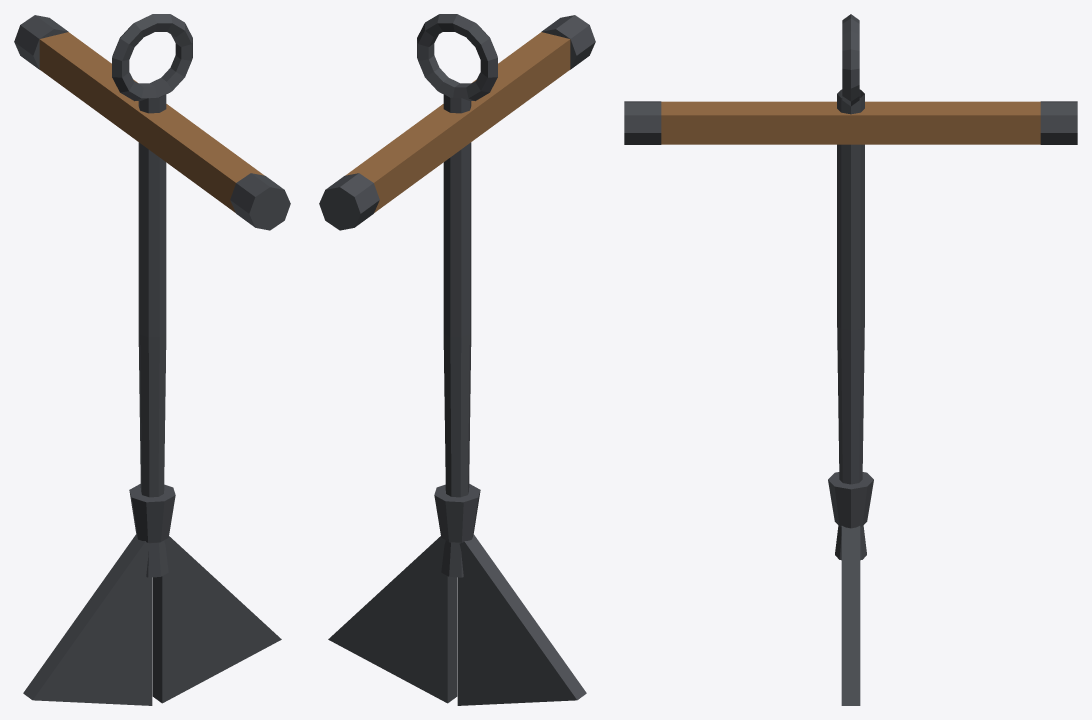
Rendered from anchor.glb.
3 renders of one model, left to right at view 1: azimuth 30°, elevation 25°; view 2: azimuth 150°, elevation 25°; view 3: azimuth 270°, elevation 25°, orthographic. The views are drawn at different scales.
Visible parts, largest first — view 1: anchor; view 2: anchor; view 3: anchor.
Boxes of the visible parts, box(x1,y1,x2,y2) form: anchor: box(14, 14, 290, 705); anchor: box(319, 14, 595, 705); anchor: box(624, 14, 1077, 705).
Bounding box in the file's own units: 0.6 × 1.58 × 0.98.
